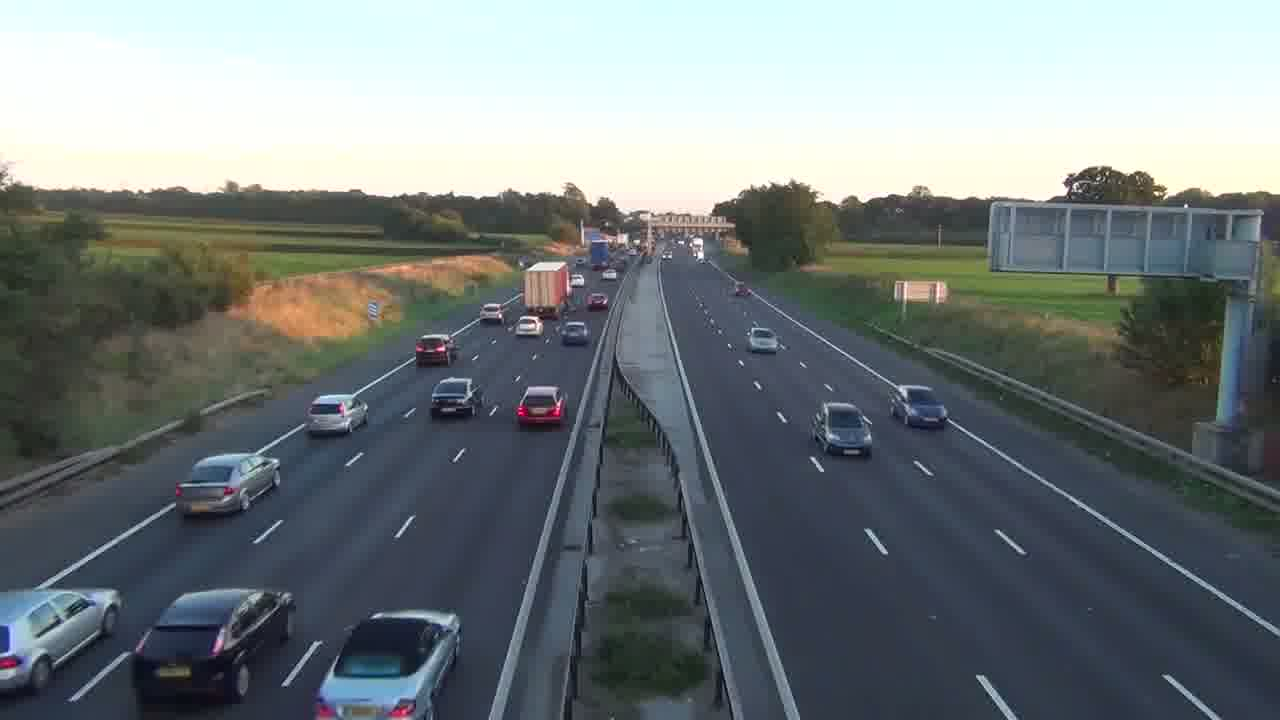car: (131, 587, 297, 705), (313, 608, 463, 719), (0, 586, 124, 696), (175, 452, 280, 518), (811, 400, 874, 457), (304, 393, 369, 437), (887, 384, 948, 430), (515, 385, 567, 428), (430, 376, 480, 419), (415, 333, 454, 367), (559, 320, 592, 346), (586, 291, 610, 311)
truck: (131, 587, 297, 705)
